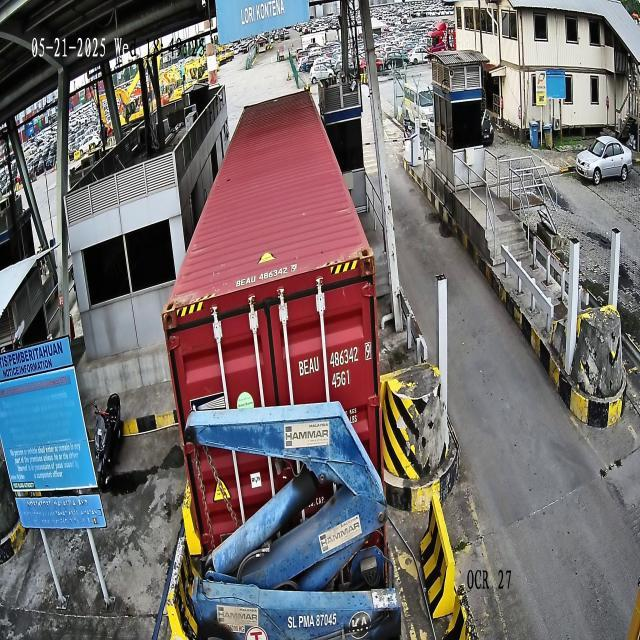ISO: (330, 368, 350, 390)
container_number: (298, 338, 374, 379)
